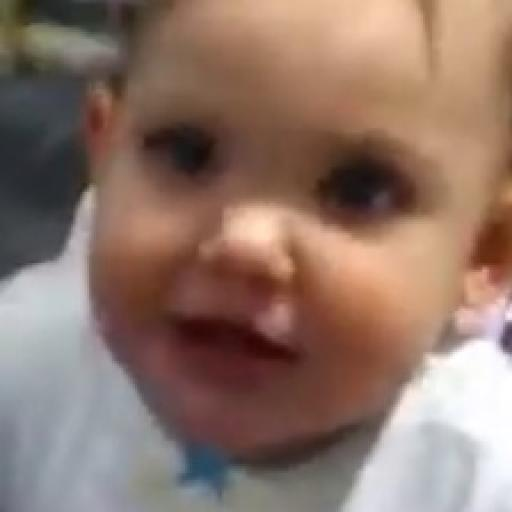Autism: (104, 13, 512, 512)
